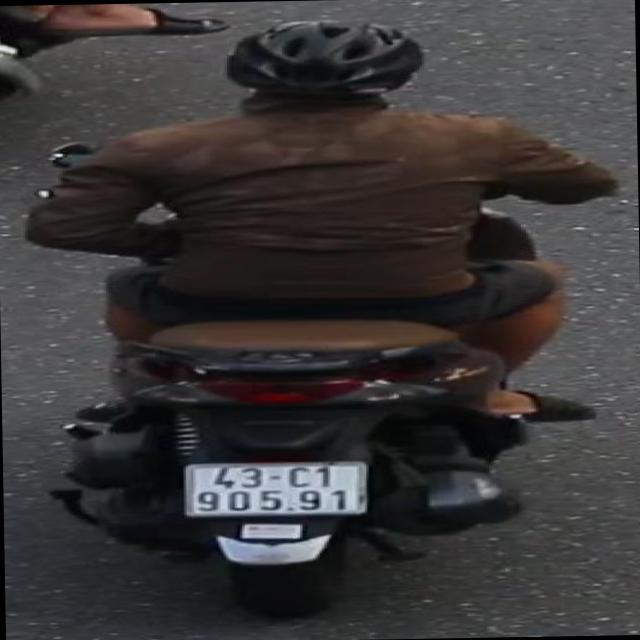LP: (174, 454, 376, 522)
helmet: (216, 14, 434, 128)
